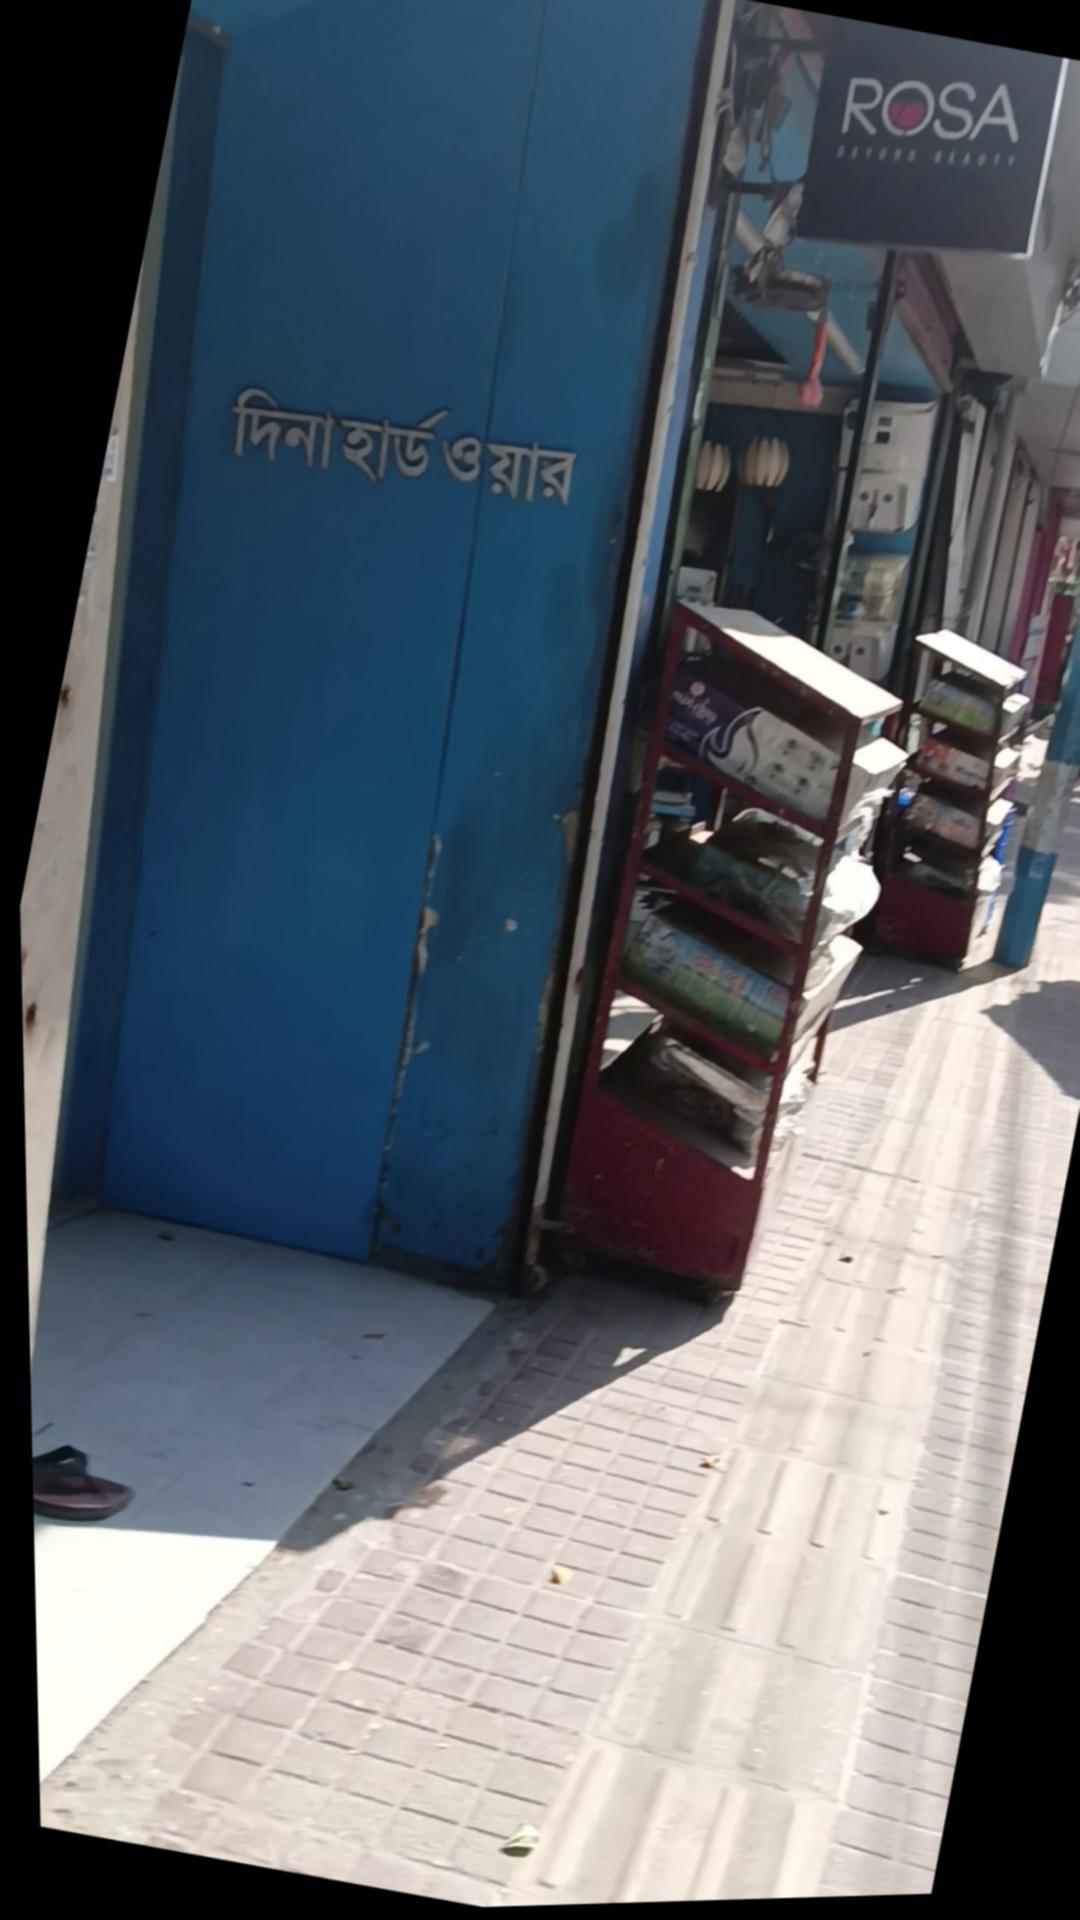Crosswalk: (520, 587, 940, 1325), (839, 622, 1068, 990)
Dog: (975, 84, 1080, 985)
Garbage: (12, 620, 1080, 1920)
Obstacle: (0, 0, 775, 1309)
